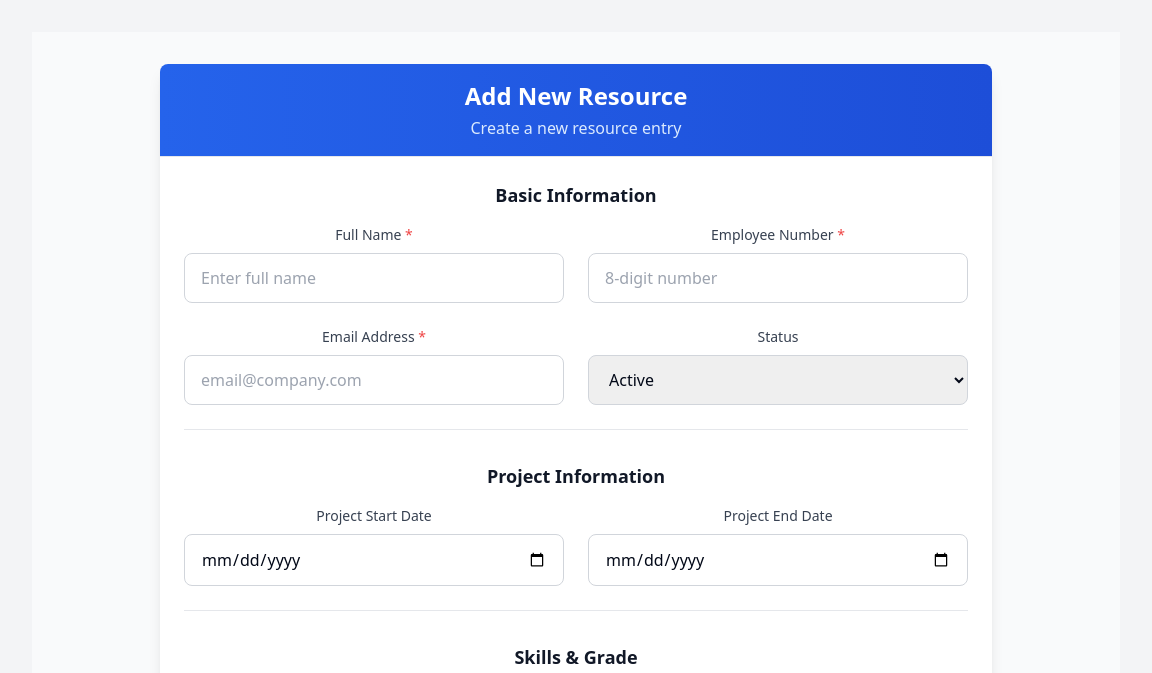
Test: ResourceForm › Form Validation › should validate employee number format
Fill in required fields with invalid employee number
Step 1. Type "John Doe" into the field labelled "Full Name *" → (374, 278), box 184,253 -> 564,303
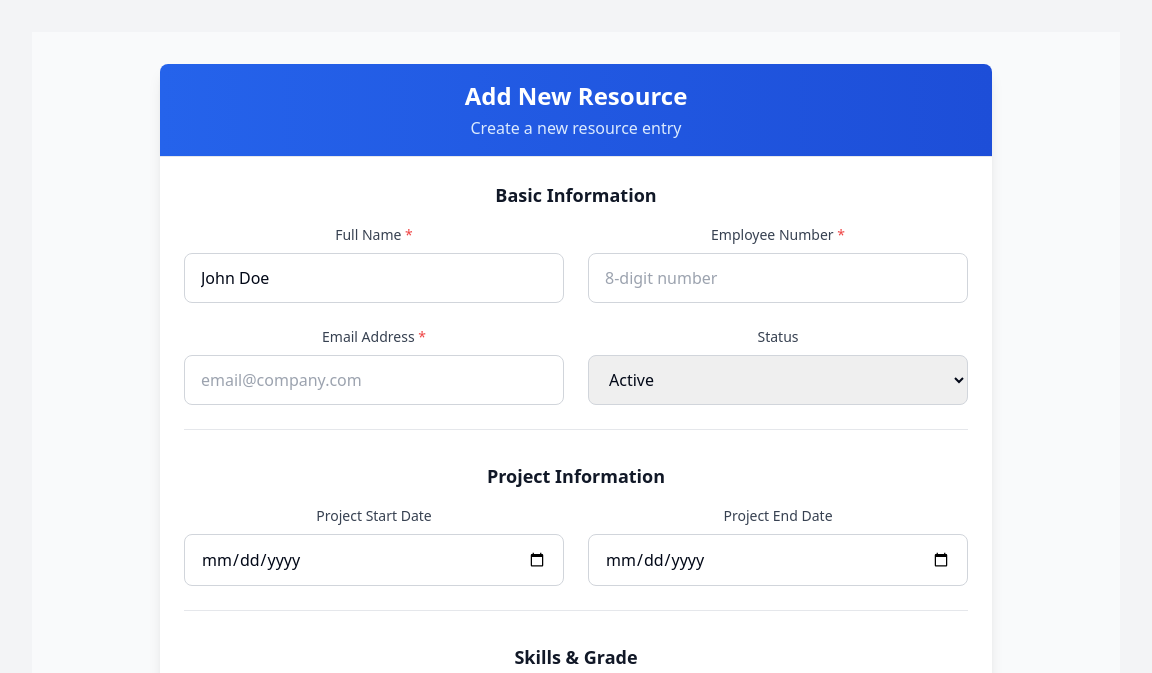
Step 2. Type "123" into the field labelled "Employee Number *" → (778, 278), box 588,253 -> 968,303
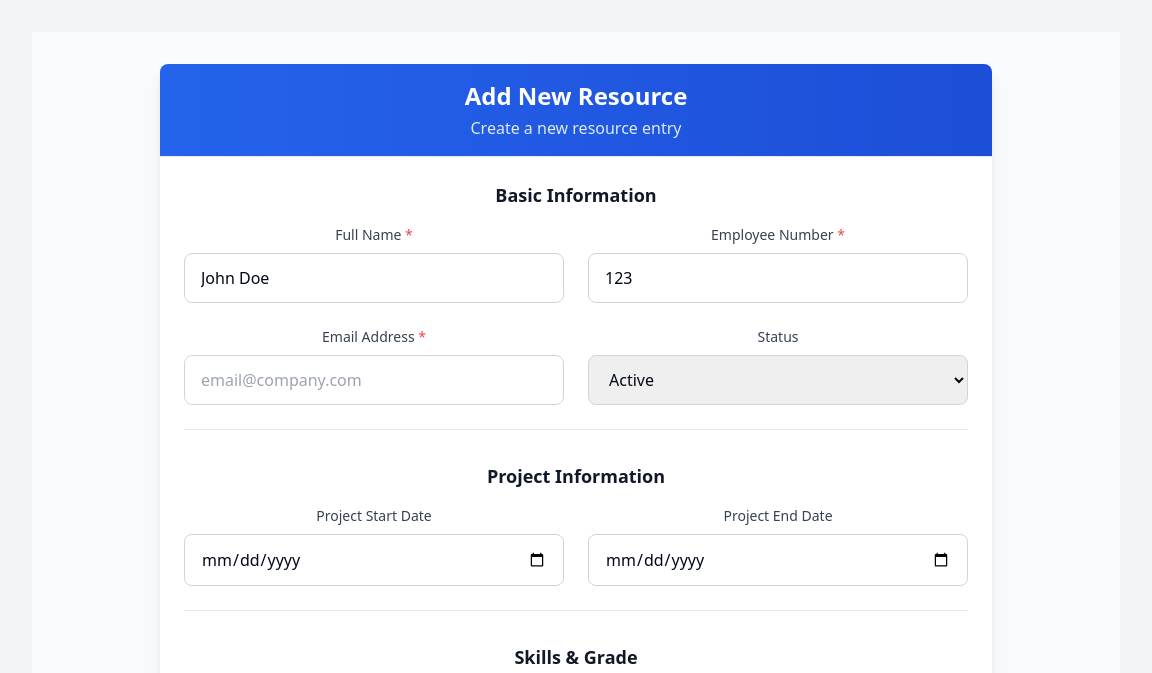
Step 3. Type "john.doe@example.com" into the field labelled "Email Address *" → (374, 380), box 184,355 -> 564,405
(page scrolled)
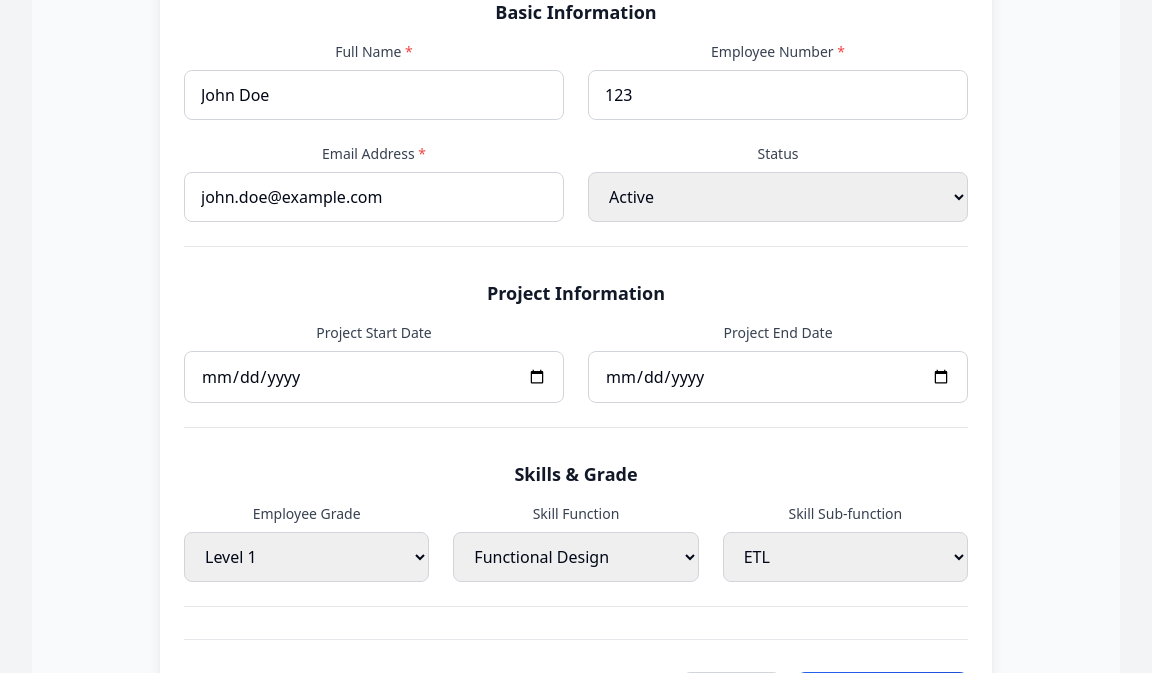
Submit the form
Step 4. Submit the form
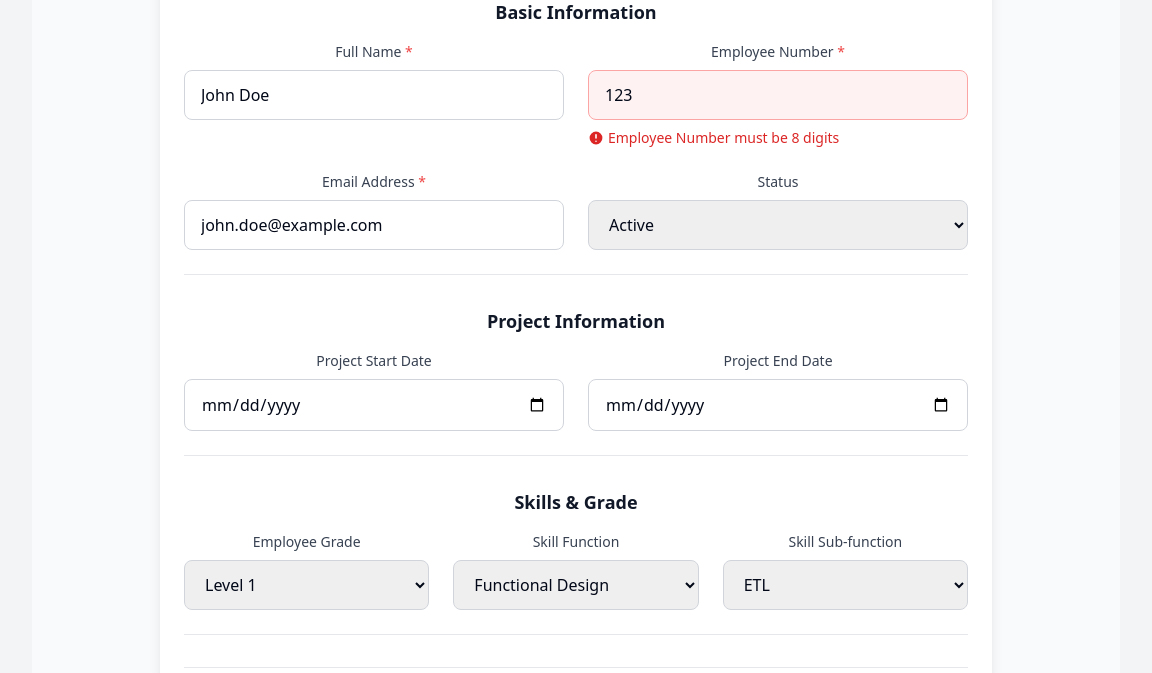
Result: the text "Employee Number must be 8 digits" is shown at 588,128 -> 839,147
